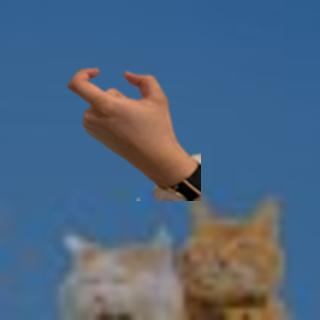HATE: (63, 61, 176, 162)
